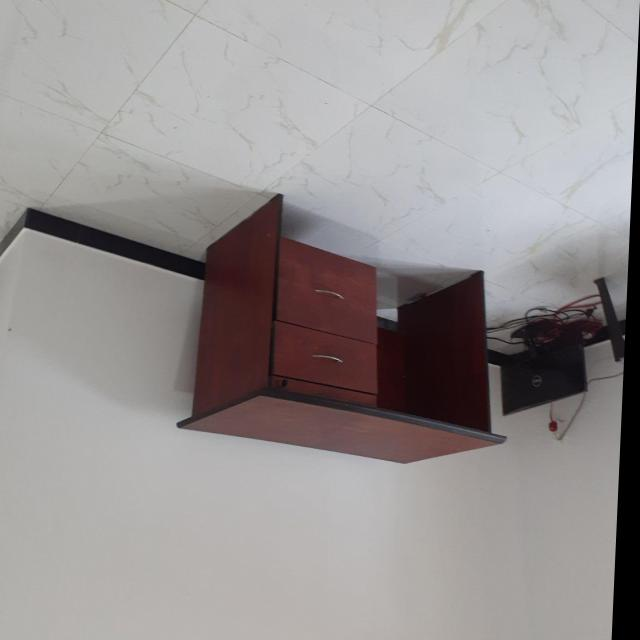Table: (154, 184, 535, 478)
